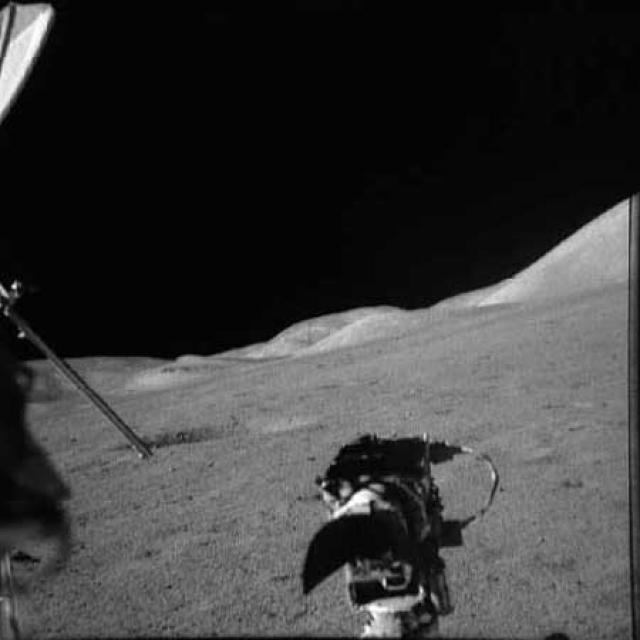artifact: (2, 282, 162, 638), (302, 428, 504, 639)
crater: (100, 411, 336, 452)
